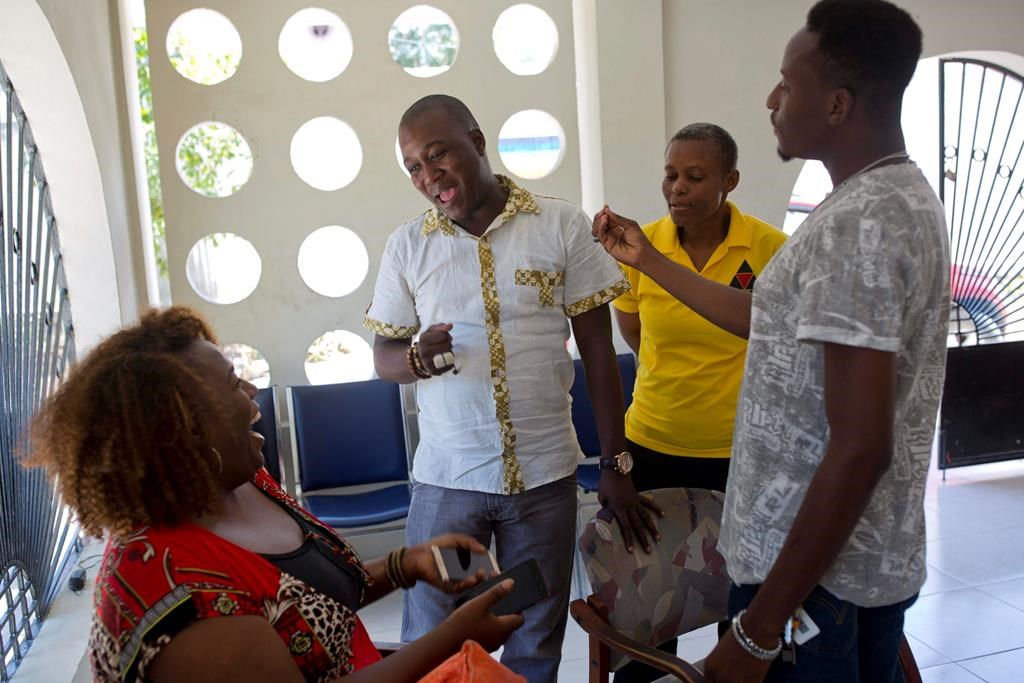Person: (613, 3, 952, 683), (35, 303, 547, 683), (355, 85, 671, 683), (584, 101, 793, 538)
